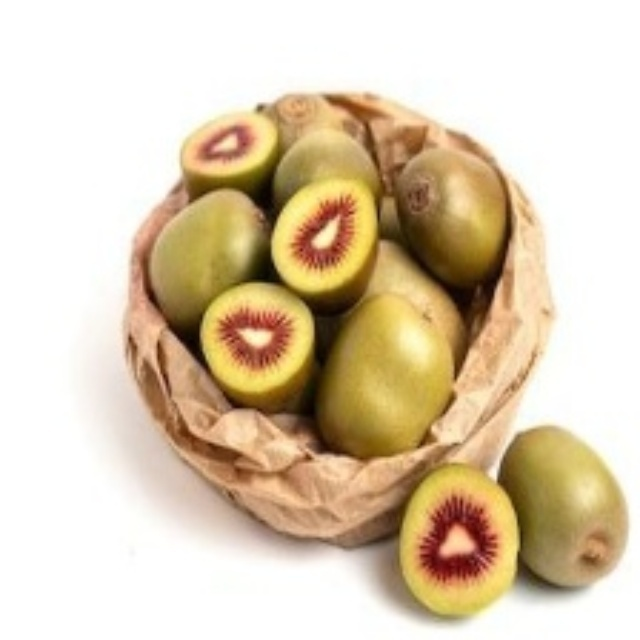kiwi: (391, 423, 631, 616), (135, 198, 335, 402), (314, 293, 457, 470), (192, 103, 380, 209), (391, 146, 531, 287), (274, 189, 382, 302)
